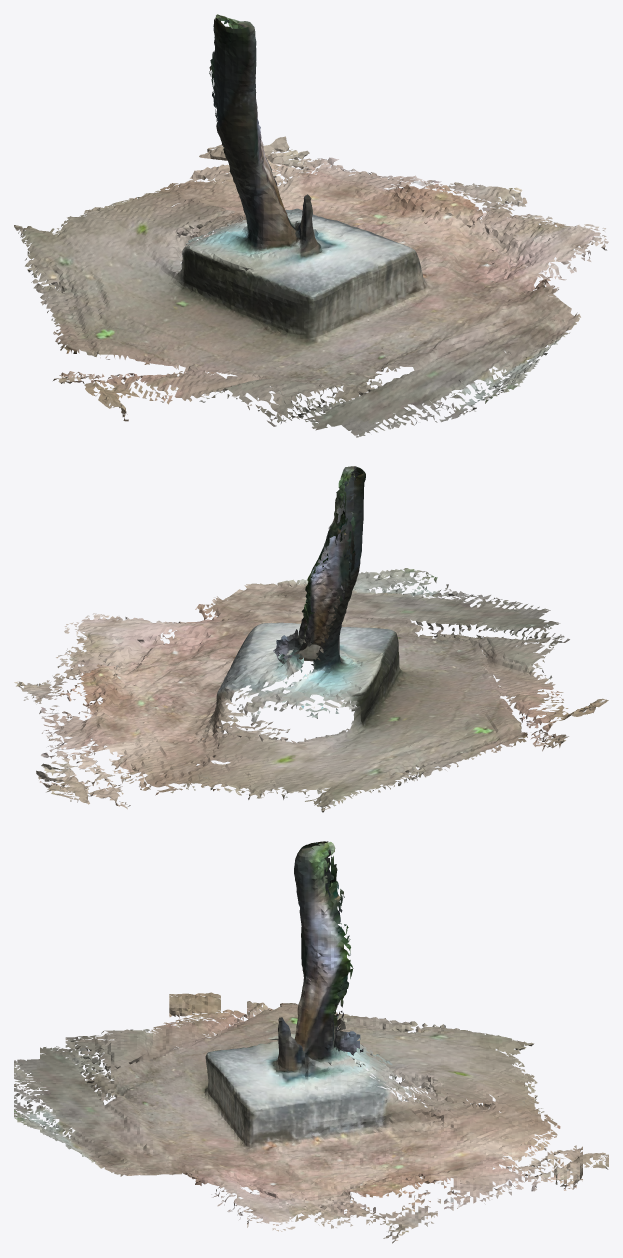
Rendered from VPSLocationMesh.fbx.
3 renders of one model, top to bottom at view 1: azimuth 30°, elevation 25°; view 2: azimuth 150°, elevation 25°; view 3: azimuth 270°, elevation 25°, orthographic. The views are drawn at different scales.
Visible parts, largest first — view 1: mesh; view 2: mesh; view 3: mesh.
Boxes of the visible parts, x1,y1,x2,y2 form: mesh: (14, 14, 608, 437); mesh: (14, 466, 608, 812); mesh: (14, 841, 608, 1243).
Bounding box in the file's own units: 4.3 × 2.25 × 4.6.
Materials: 1 (1 with a texture image).
